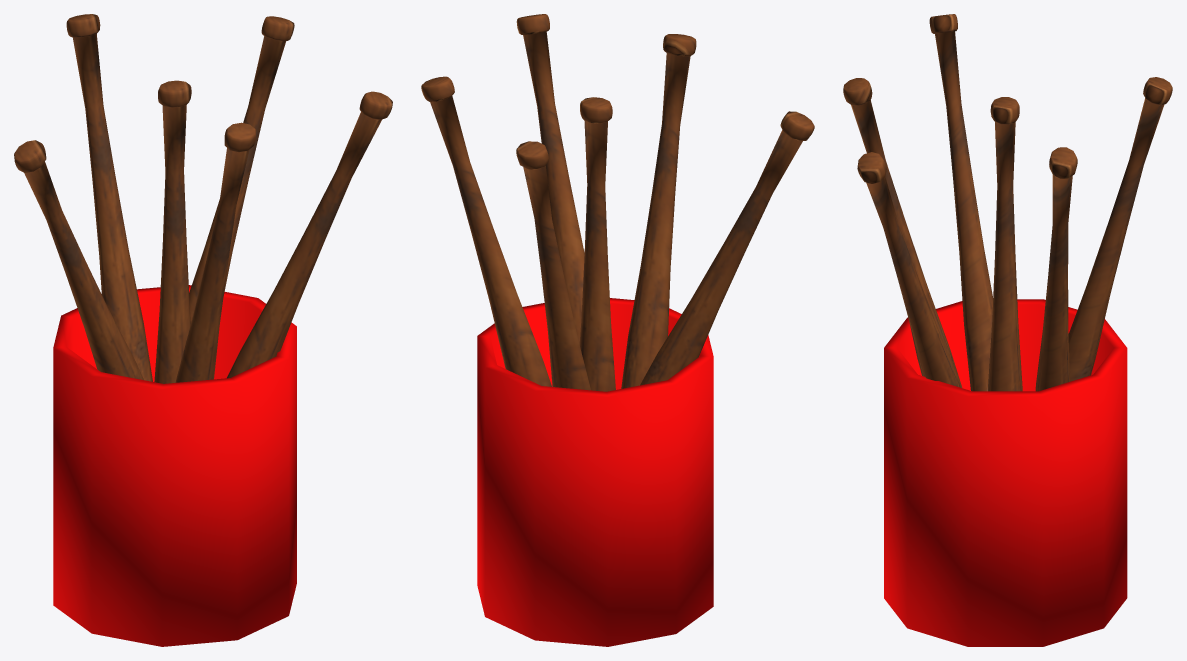
Rendered from beyzbol sopası kovası.fbx.
3 views of the same model, side by side, from view 1: azimuth 30°, elevation 25°; view 2: azimuth 150°, elevation 25°; view 3: azimuth 270°, elevation 25° (orthographic). The views are drawn at different scales.
Visible parts, largest first — view 1: Icosphere.001; view 2: Icosphere.001; view 3: Icosphere.001.
Boxes of the visible parts, bbox=[...] form: Icosphere.001: bbox=[14, 14, 392, 646]; Icosphere.001: bbox=[421, 14, 814, 646]; Icosphere.001: bbox=[843, 14, 1172, 646].
Size of the model in its own units: 61.17 by 90.48 by 52.84.
Materials: 1 (1 with a texture image).
